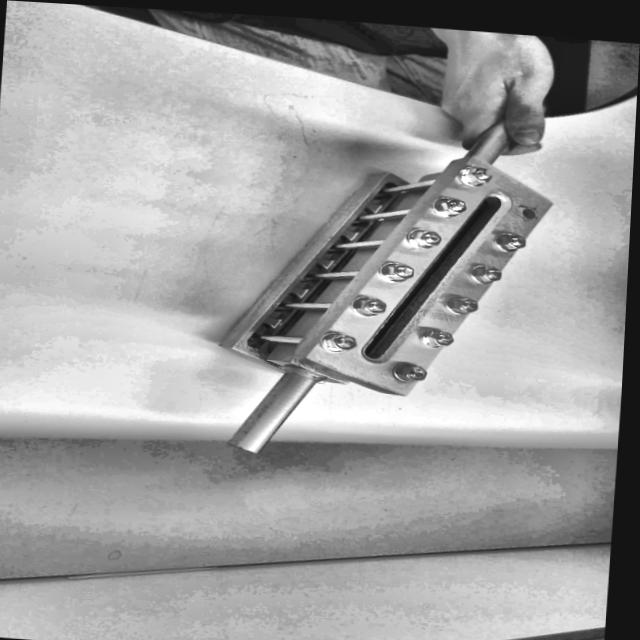ShuiWeiQi_11: (180, 122, 623, 476)
